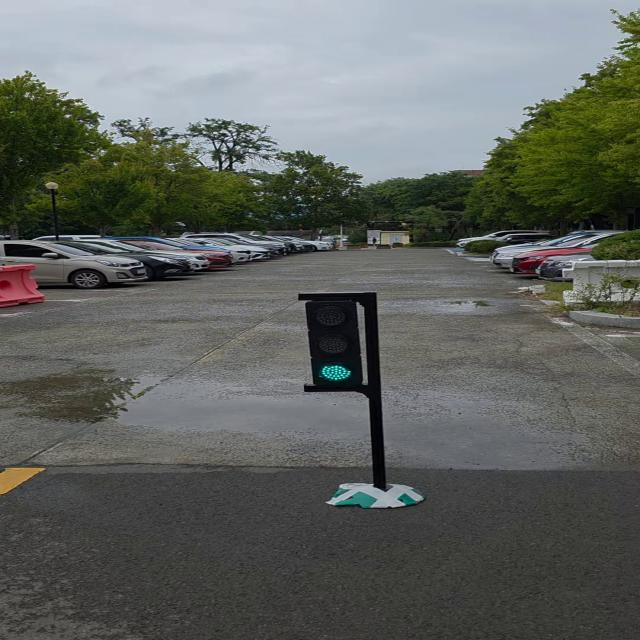green: (307, 295, 376, 390)
